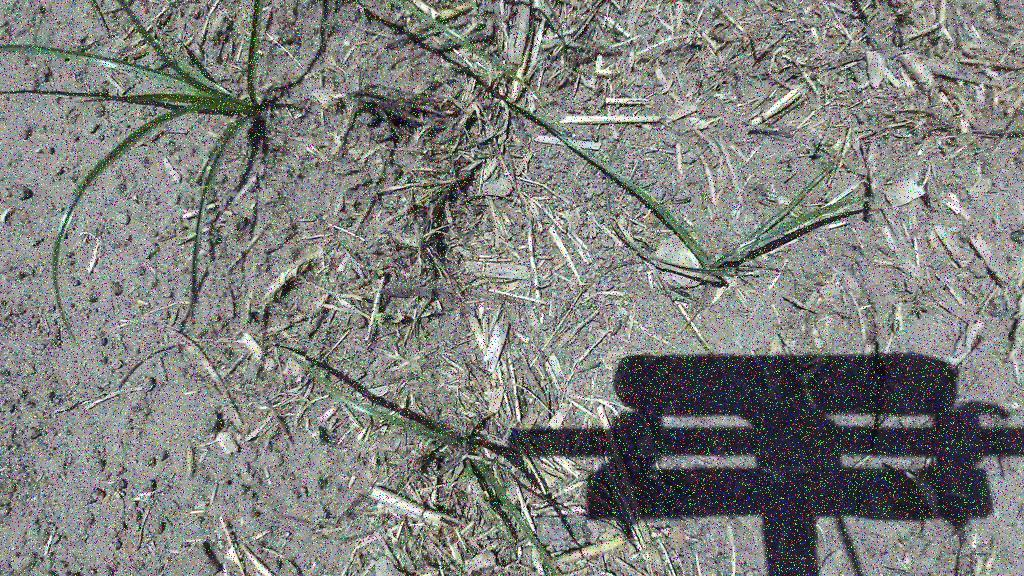BroWeed: (248, 304, 266, 319), (389, 311, 405, 327), (311, 531, 328, 545), (376, 309, 390, 320), (373, 267, 385, 279), (376, 316, 385, 323)
NarWeed: (277, 297, 582, 576), (37, 0, 263, 345)
